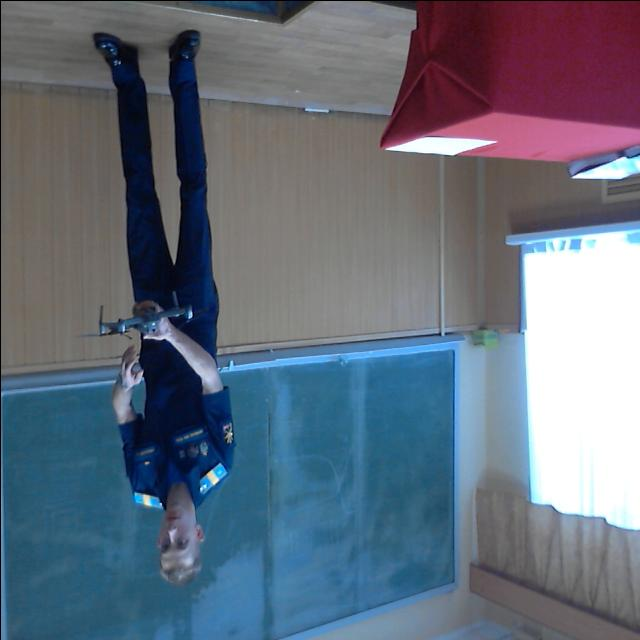drone: (85, 288, 205, 366)
